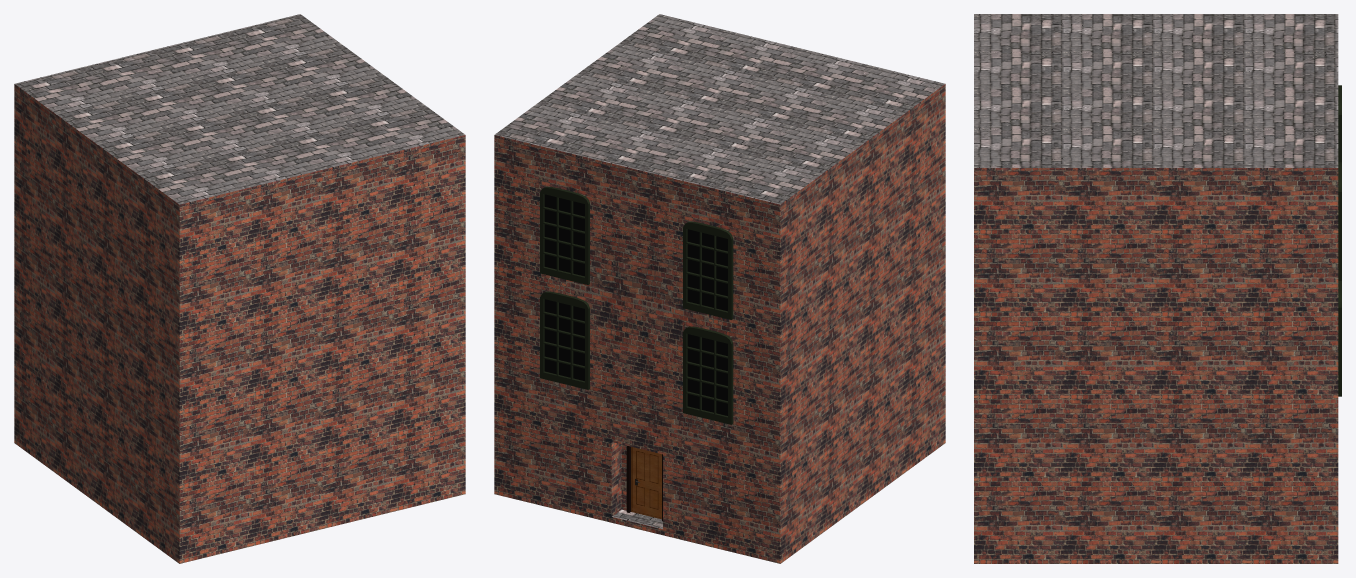
The model's file is building_002.fbx.
The picture shows the model from 3 angles, left to right: view 1: azimuth 30°, elevation 25°; view 2: azimuth 150°, elevation 25°; view 3: azimuth 270°, elevation 25°; orthographic projection. The views are drawn at different scales.
Visible parts, largest first — view 1: building_002; view 2: building_002, window003, window002, window004, window001; view 3: building_002, window001, window004.
Part boxes in pixels (box(x1,y1,x2,y2)): building_002: box(14, 14, 465, 563); building_002: box(494, 14, 945, 563); window003: box(683, 326, 733, 424); window002: box(683, 221, 733, 319); window004: box(540, 291, 589, 389); window001: box(540, 186, 589, 284); building_002: box(974, 14, 1338, 563); window001: box(1338, 162, 1341, 280); window004: box(1338, 281, 1341, 396).
Size of the model in its own units: 1000 by 1200 by 1010.
